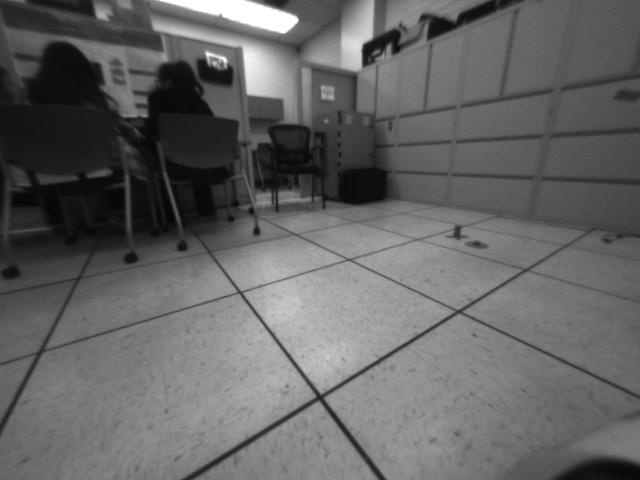X: (444, 224, 469, 241)
